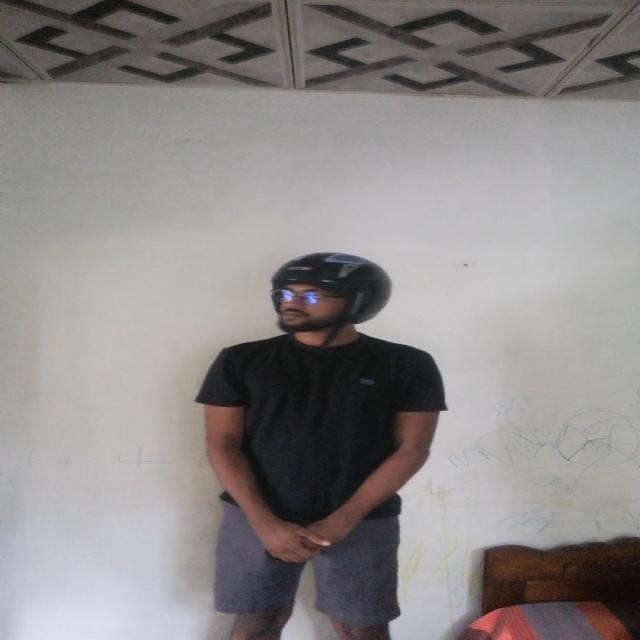Helmet_Wearer: (253, 249, 397, 338)
Person: (197, 251, 438, 640)
